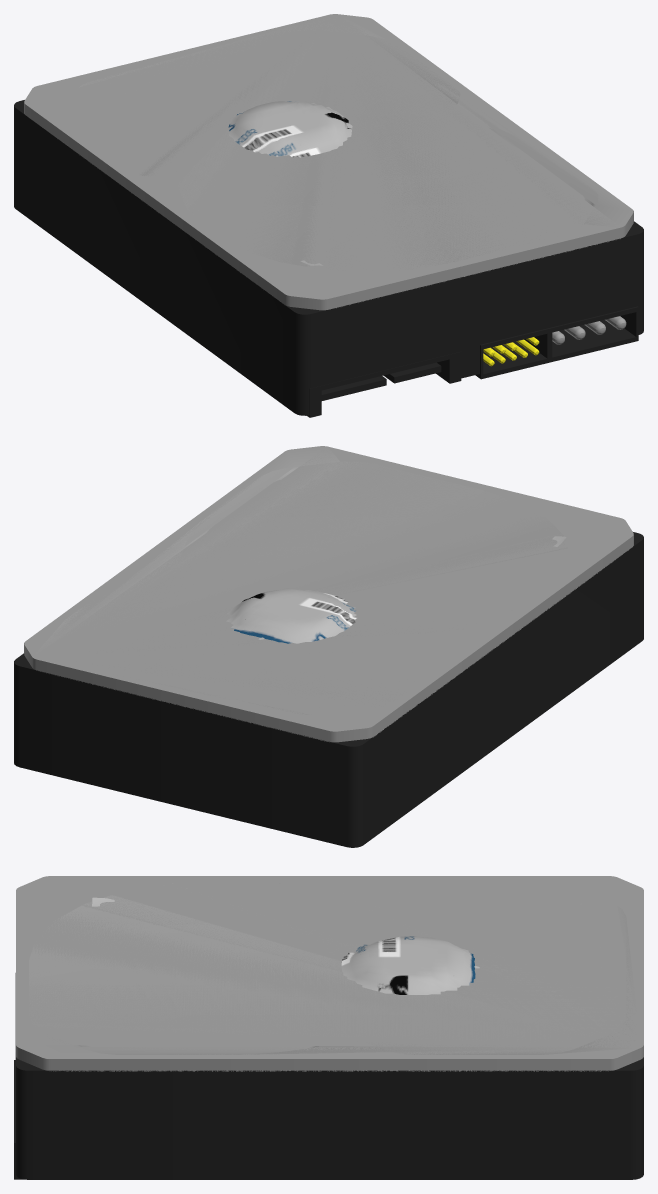
Rendered from HDD.fbx.
3 views of the same model, one above another, from view 1: azimuth 30°, elevation 25°; view 2: azimuth 150°, elevation 25°; view 3: azimuth 270°, elevation 25° (orthographic). The views are drawn at different scales.
Parts seen in each view (by area): view 1: HDD; view 2: HDD; view 3: HDD.
Boxes of the visible parts, x1=… form: HDD: x1=14, y1=14, x2=643, y2=417; HDD: x1=14, y1=446, x2=643, y2=847; HDD: x1=14, y1=876, x2=643, y2=1179.
Bounding box in the file's own units: 264 × 90.88 × 384.
